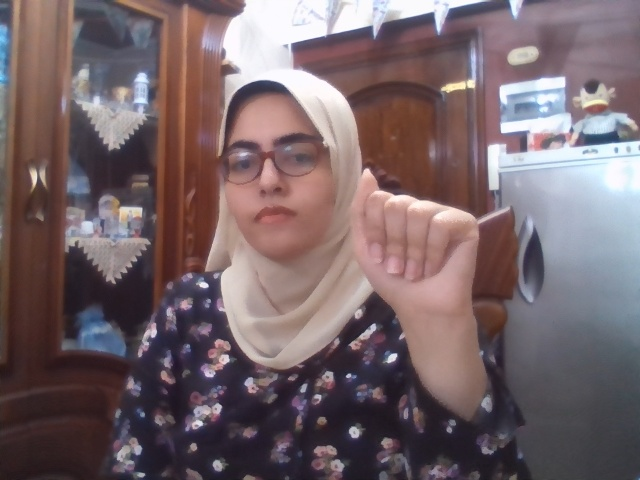A: (350, 169, 479, 315)
